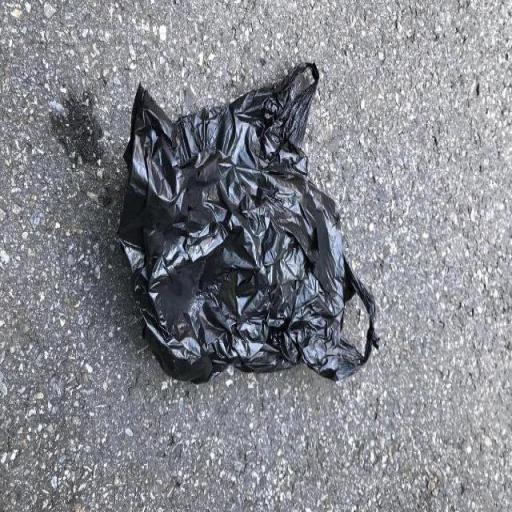plastic-bag: (114, 56, 383, 382)
